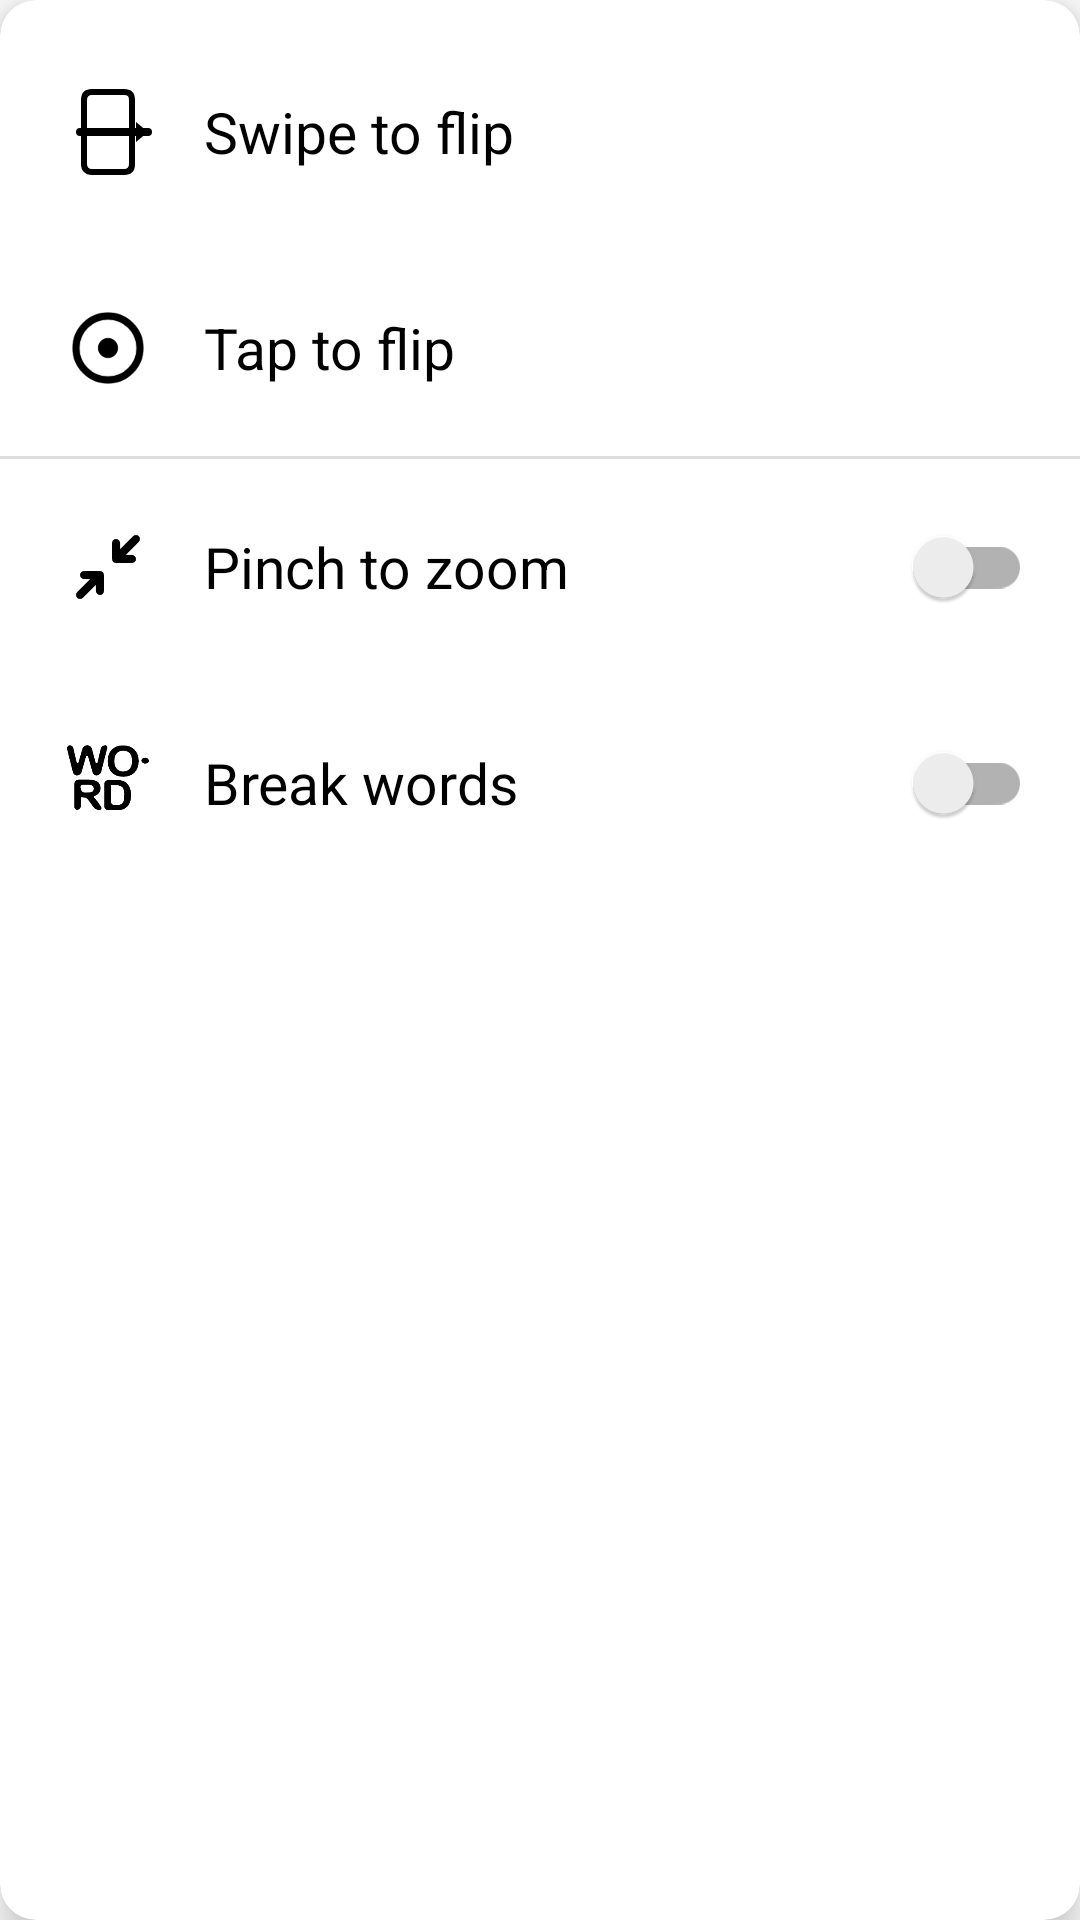

Icon click points for this 1080px x 1920px phone screenshot, format [x,y]:
break on space: [108,777]
pinch on: [108,567]
